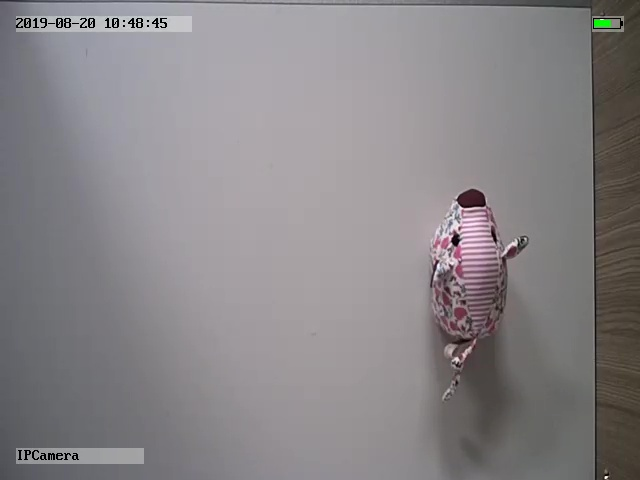pig: (426, 187, 529, 404)
